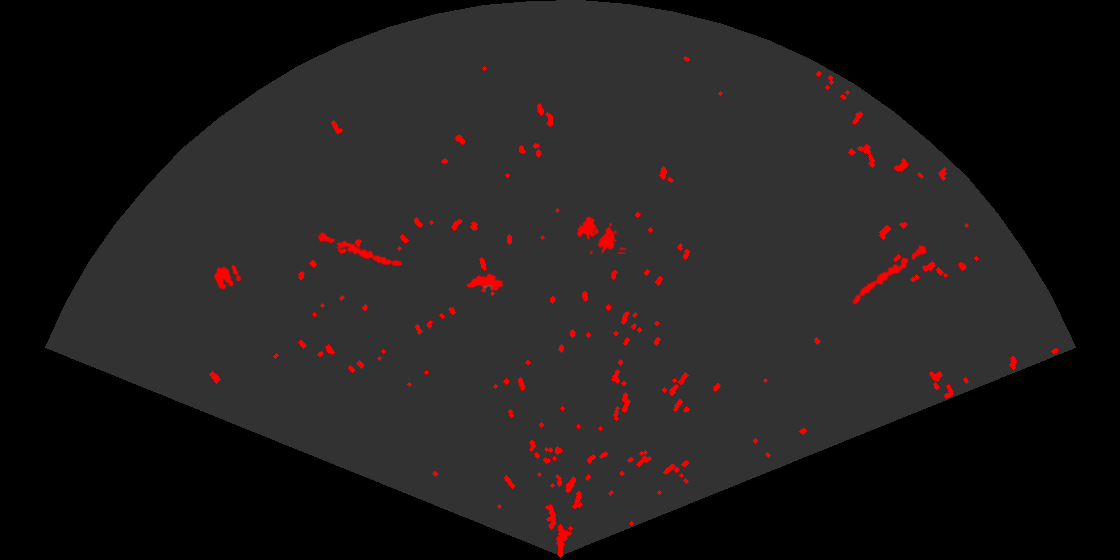AUV: (464, 272, 505, 294)
ball: (212, 263, 243, 291)
cage: (575, 215, 626, 254)
chain: (851, 240, 932, 306), (310, 230, 404, 268)
